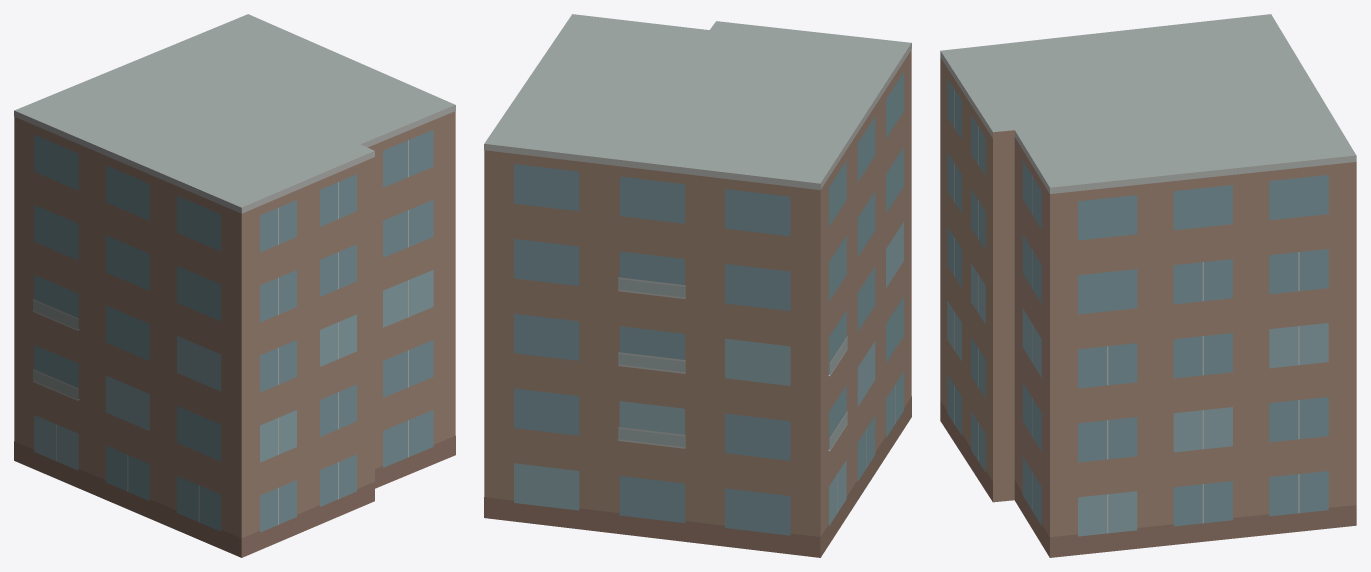
Rendered from survey-upis-32653462.glb.
3 views of the same model, side by side, from view 1: azimuth 30°, elevation 25°; view 2: azimuth 150°, elevation 25°; view 3: azimuth 270°, elevation 25° (orthographic). The views are drawn at different scales.
Visible parts, largest first — view 1: survey-upis-32653462.tmp; view 2: survey-upis-32653462.tmp; view 3: survey-upis-32653462.tmp.
Part boxes in pixels (x1,y1,x2,y2): survey-upis-32653462.tmp: (14,14,455,557); survey-upis-32653462.tmp: (484,14,911,557); survey-upis-32653462.tmp: (940,14,1356,557).
Bounding box in the file's own units: 14.31 × 14.2 × 14.48.
